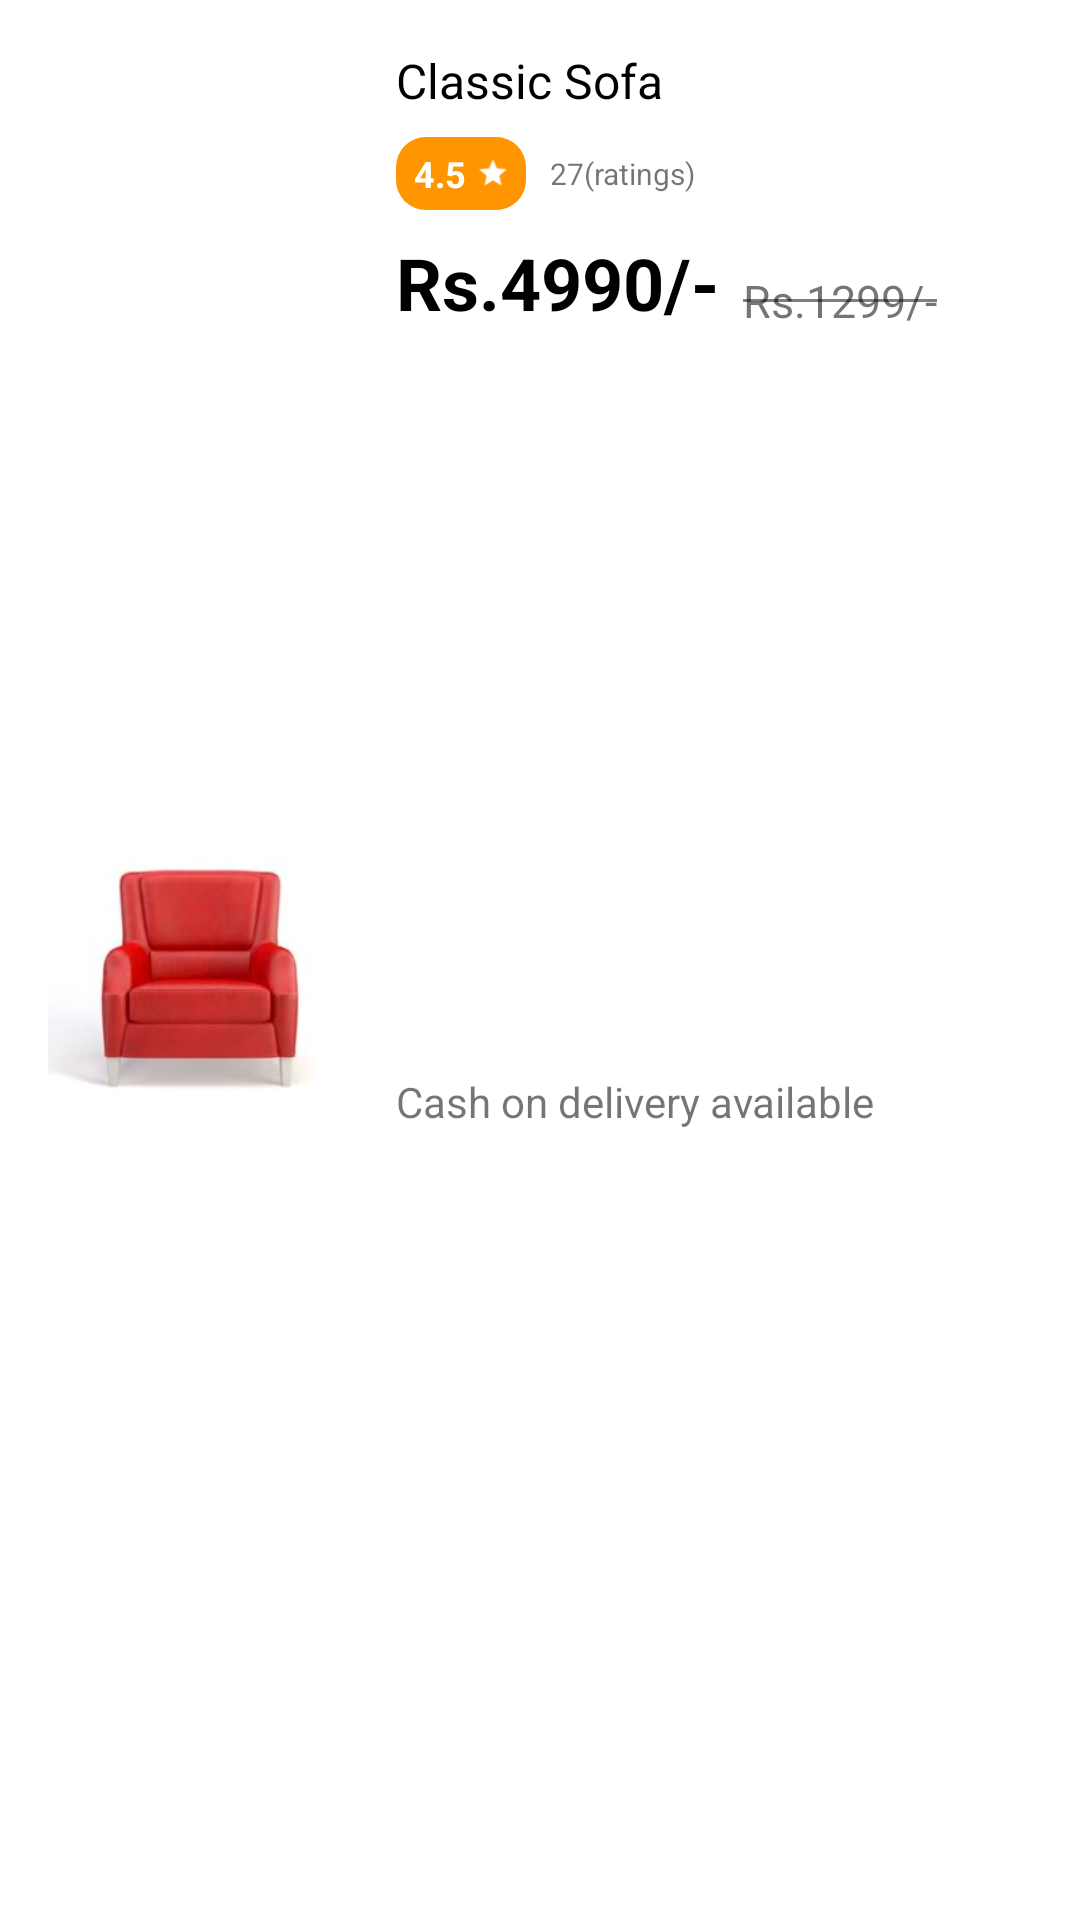

Where to tap for icons on this 1080 x 1920 app screen, as (x=x, y=y):
sofa: (x=182, y=978)
star: (x=493, y=172)
